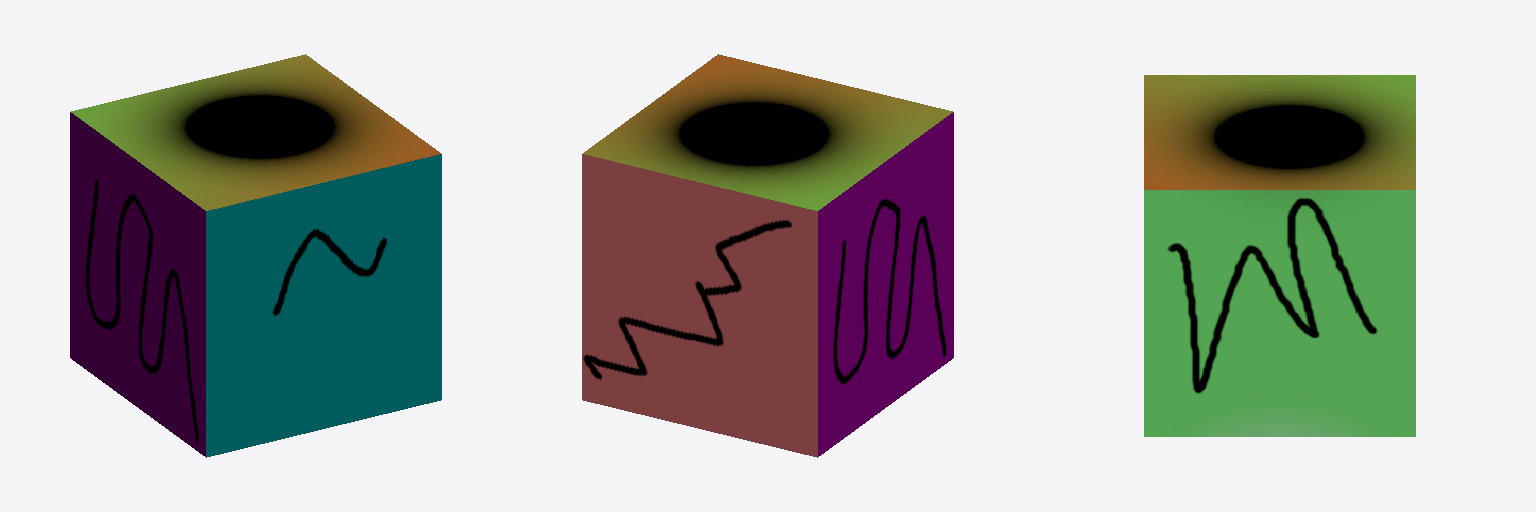
3 views of the same model, side by side, from view 1: azimuth 30°, elevation 25°; view 2: azimuth 150°, elevation 25°; view 3: azimuth 270°, elevation 25° (orthographic).
Visible parts, largest first — view 1: Cube; view 2: Cube; view 3: Cube.
Boxes of the visible parts, x1,y1,x2,y2 form: Cube: [70, 54, 441, 457]; Cube: [582, 54, 953, 457]; Cube: [1144, 75, 1415, 436].
Size of the model in its own units: 2 by 2 by 2.
1 materials, 1 textured.